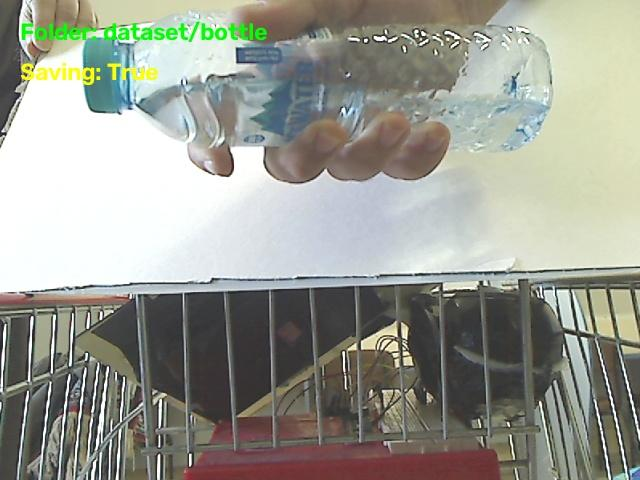Bottle: (83, 12, 552, 149), (84, 12, 552, 149), (0, 81, 185, 216)
